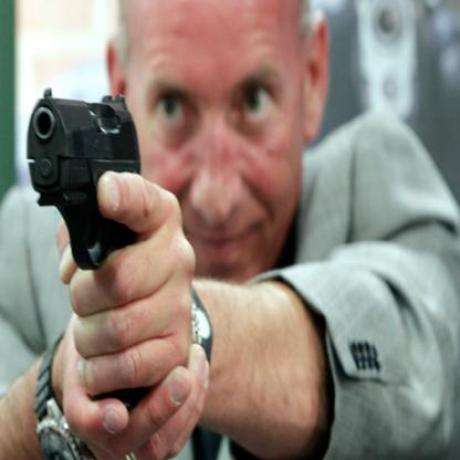1: (0, 4, 449, 460)
weapon: (26, 80, 172, 410)
